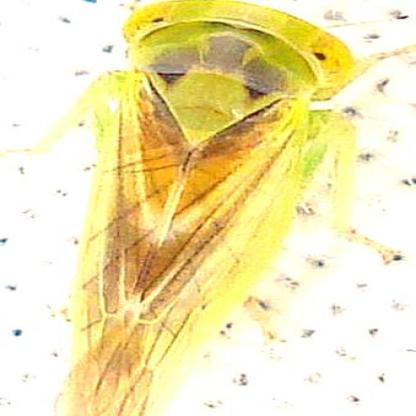green-leafhopper: (68, 2, 370, 416)
